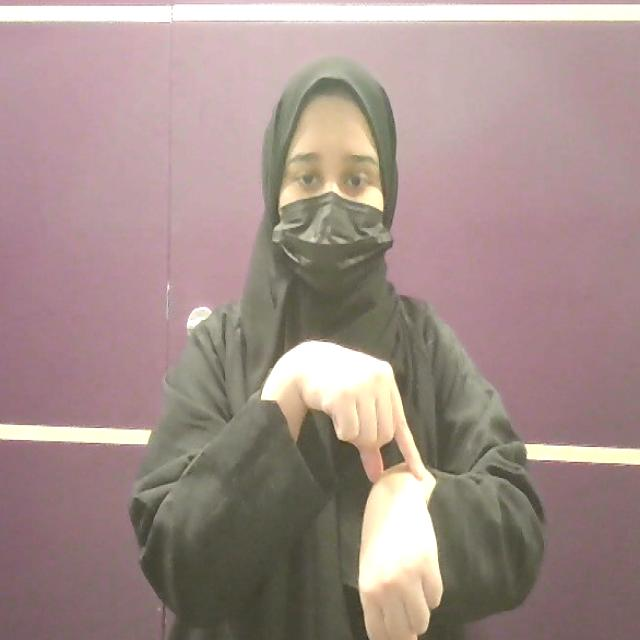appointment: (291, 334, 444, 640)
